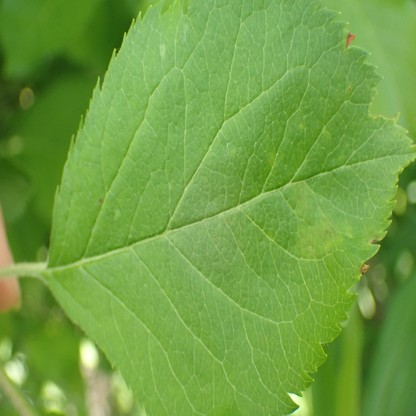frogeye_leaf_spot: (347, 33, 355, 48)
scab: (295, 217, 334, 255)
